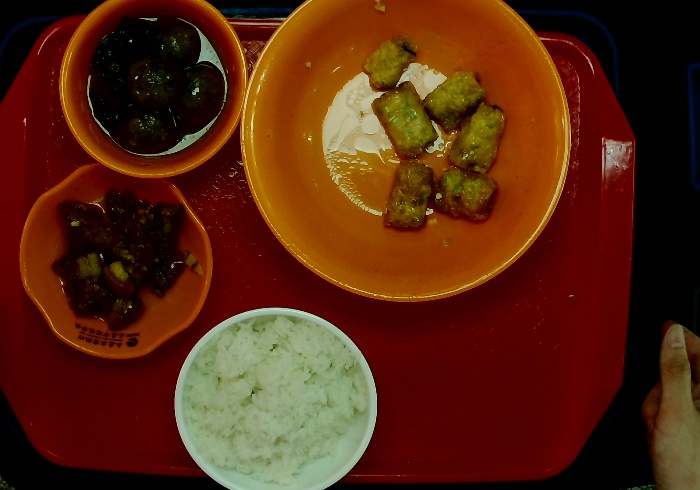YKMZ-Fan_Wan: (169, 298, 381, 490)
YKMZ-Ju_Se_Ao_Bian_Wan: (17, 164, 214, 362)
YKMZ-Ju_Se_Tang_Wan: (239, 1, 572, 305)
YKMZ-Ju_Se_Yuan_Wan: (59, 4, 249, 181)
